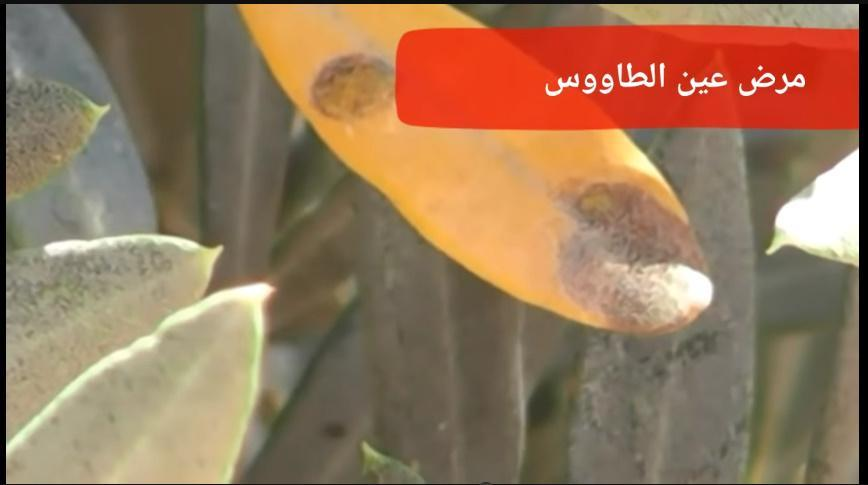OlivePeacockSpot: (244, 9, 717, 330)
